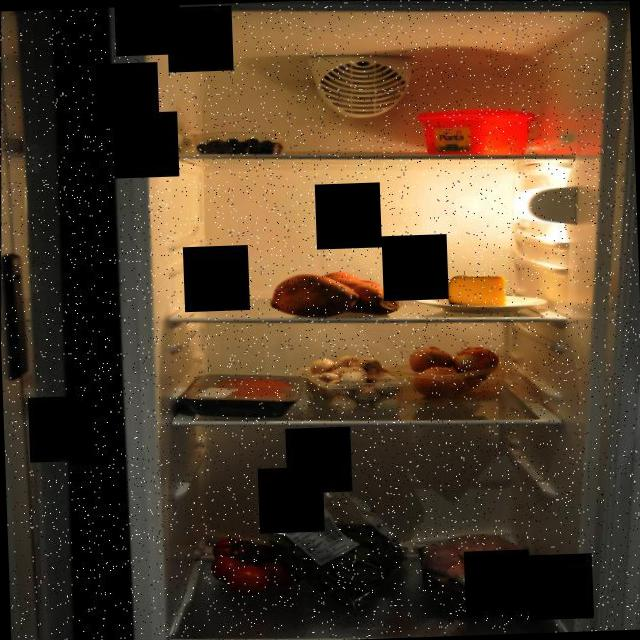Carne pollo: (414, 526, 546, 613)
Carne vacuno: (205, 370, 292, 410)
Cebolla: (404, 340, 498, 400)
Champiñones: (297, 351, 413, 423)
Mantequilla: (416, 104, 546, 158)
Queso: (443, 270, 511, 312)
Tomate: (207, 526, 310, 598)
